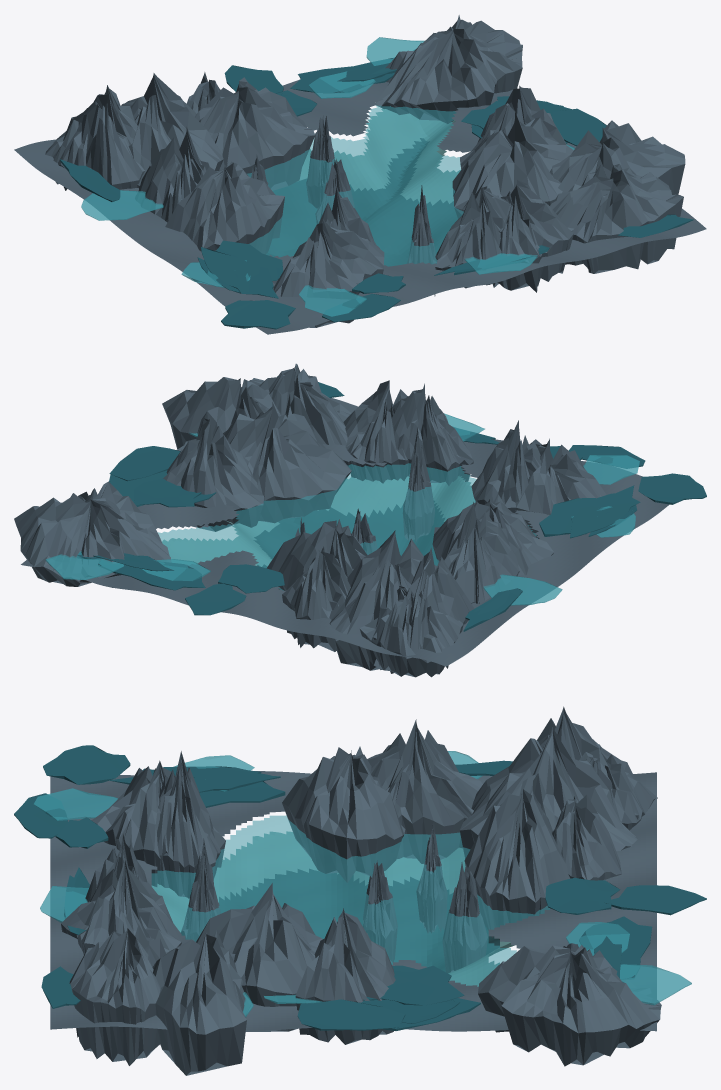
Rendered from water_tile_00.glb.
3 views of the same model, one above another, from view 1: azimuth 30°, elevation 25°; view 2: azimuth 150°, elevation 25°; view 3: azimuth 270°, elevation 25° (orthographic). The views are drawn at different scales.
Visible parts, largest first — view 1: glacial water surface 00, single continuous dark slate shoreline, angular fractured shoreline ledge.005, angular fractured shoreline ledge.011, angular fractured shoreline ledge.003, submerged mineral riverbed, angular fractured shoreline ledge.015, visible shallow mineral shelves, angular fractured shoreline ledge.007, angular fractured shoreline ledge.012, angular fractured shoreline ledge.006, angular fractured shoreline ledge.010 (+31 smaller); view 2: single continuous dark slate shoreline, glacial water surface 00, angular fractured shoreline ledge.005, angular fractured shoreline ledge.007, visible shallow mineral shelves, angular fractured shoreline ledge.004, angular fractured shoreline ledge.001, angular fractured shoreline ledge.009, angular fractured shoreline ledge.002, angular fractured shoreline ledge.013, angular fractured shoreline ledge.006, angular fractured shoreline ledge.010 (+27 smaller); view 3: glacial water surface 00, single continuous dark slate shoreline, angular fractured shoreline ledge.005, angular fractured shoreline ledge.015, angular fractured shoreline ledge.006, angular fractured shoreline ledge.003, angular fractured shoreline ledge.011, angular fractured shoreline ledge.013, angular fractured shoreline ledge.007, submerged mineral riverbed, angular fractured shoreline ledge.001, visible shallow mineral shelves (+32 smaller).
Boxes of the visible parts, x1,y1,x2,y2 form: glacial water surface 00: (247,105,463,266); single continuous dark slate shoreline: (14,79,706,334); angular fractured shoreline ledge.005: (375,15,522,123); angular fractured shoreline ledge.011: (550,164,683,273); angular fractured shoreline ledge.003: (195,77,314,190); submerged mineral riverbed: (266,138,457,266); angular fractured shoreline ledge.015: (165,161,284,254); visible shallow mineral shelves: (299,108,460,205); angular fractured shoreline ledge.007: (452,111,573,218); angular fractured shoreline ledge.012: (272,219,384,327); angular fractured shoreline ledge.006: (550,120,685,194); angular fractured shoreline ledge.010: (492,180,573,292); single continuous dark slate shoreline: (21,398,669,666); glacial water surface 00: (158,463,537,590); angular fractured shoreline ledge.005: (14,481,170,587); angular fractured shoreline ledge.007: (223,402,351,523); visible shallow mineral shelves: (162,476,474,566); angular fractured shoreline ledge.004: (163,418,264,531); angular fractured shoreline ledge.001: (329,530,436,673); angular fractured shoreline ledge.009: (389,383,473,485); angular fractured shoreline ledge.002: (359,586,463,677); angular fractured shoreline ledge.013: (444,502,519,604); angular fractured shoreline ledge.006: (162,377,281,449); angular fractured shoreline ledge.010: (343,380,408,483); glacial water surface 00: (151,815,549,986); single continuous dark slate shoreline: (50,771,656,1031); angular fractured shoreline ledge.005: (478,943,661,1066); angular fractured shoreline ledge.015: (282,746,405,882); angular fractured shoreline ledge.006: (152,930,251,1075); angular fractured shoreline ledge.003: (464,789,570,939); angular fractured shoreline ledge.011: (69,924,165,1065); angular fractured shoreline ledge.013: (367,719,482,863); angular fractured shoreline ledge.007: (196,883,322,1031); submerged mineral riverbed: (219,868,499,971); angular fractured shoreline ledge.001: (459,727,637,858); visible shallow mineral shelves: (151,831,514,986).
Bounding box in the file's own units: 1.16 × 0.3627 × 1.14.
